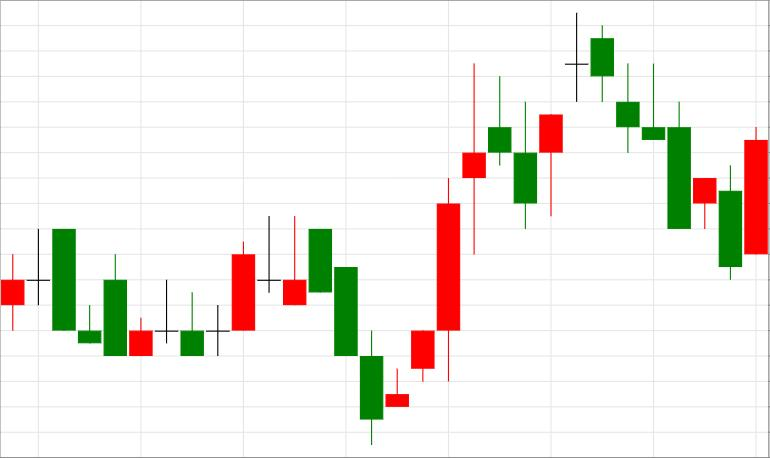three_white_soldiers_rise: (309, 176, 460, 444)
